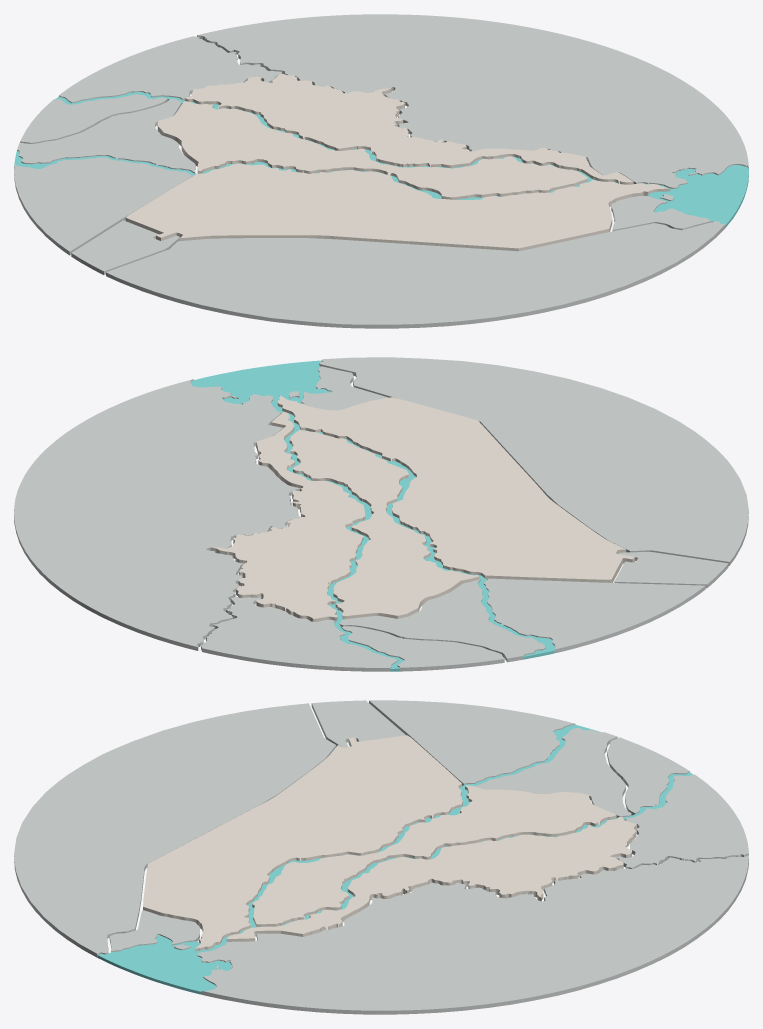
The model's file is iraq.glb.
3 renders of one model, top to bottom at view 1: azimuth 30°, elevation 25°; view 2: azimuth 150°, elevation 25°; view 3: azimuth 270°, elevation 25°, orthographic.
Bounding box in the file's own units: 70 × 0.6129 × 70.02.
